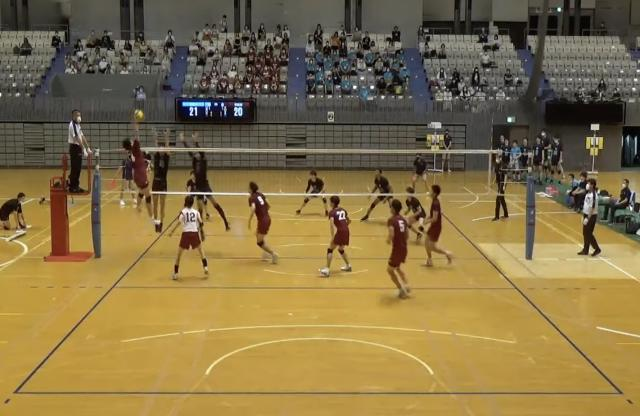spike: (118, 105, 165, 229)
